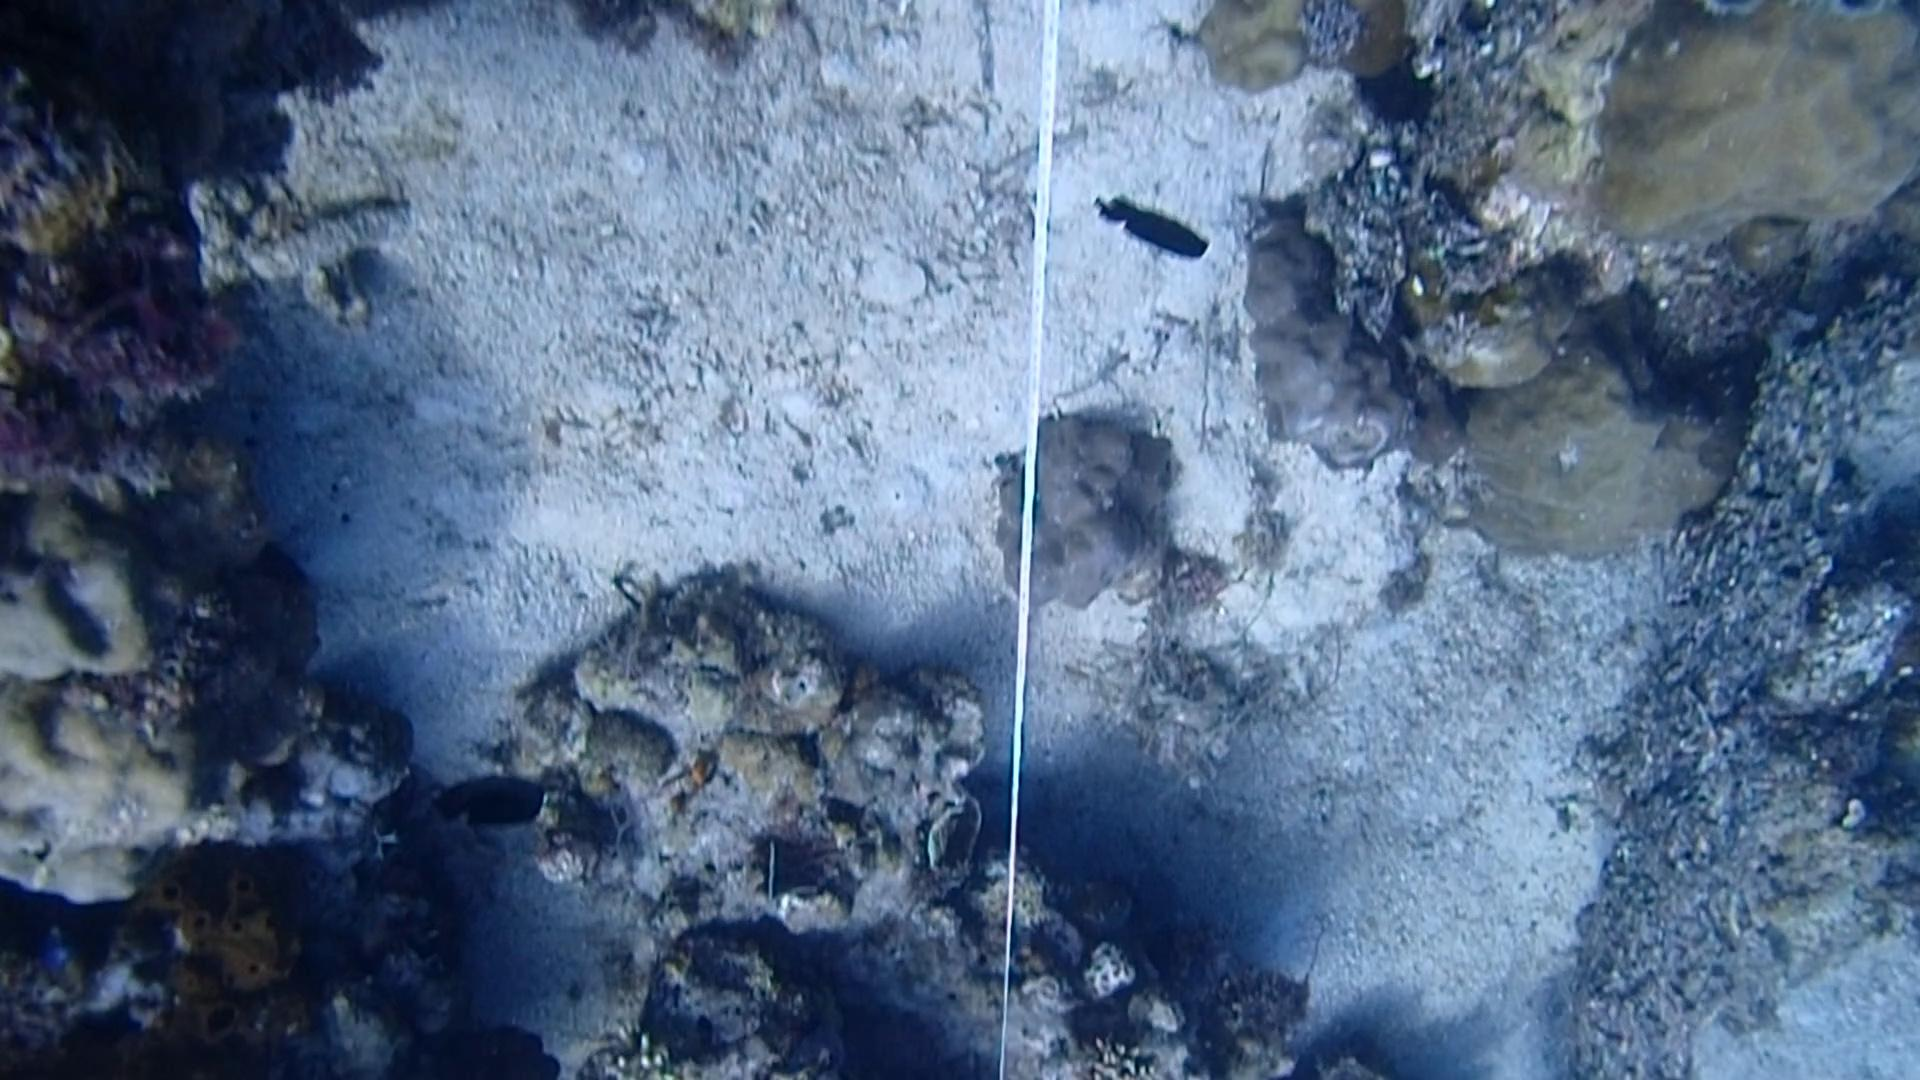Big Dark Blue Fish: (400, 757, 572, 844)
Dark Fish: (1089, 194, 1216, 278)
